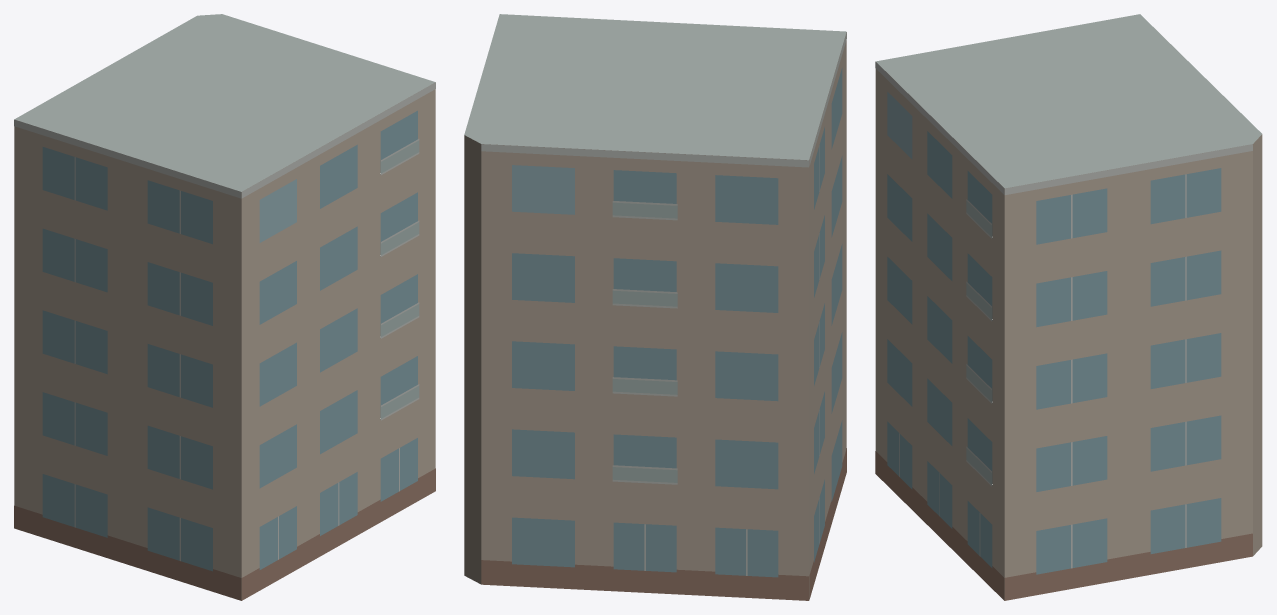
File: survey-upis-32678154.glb
The picture shows the model from 3 angles, left to right: view 1: azimuth 30°, elevation 25°; view 2: azimuth 150°, elevation 25°; view 3: azimuth 270°, elevation 25°; orthographic projection. The views are drawn at different scales.
Parts seen in each view (by area): view 1: survey-upis-32678154.tmp; view 2: survey-upis-32678154.tmp; view 3: survey-upis-32678154.tmp.
Boxes of the visible parts, left/top/right/bottom form: survey-upis-32678154.tmp: left=14, top=14, right=435, bottom=600; survey-upis-32678154.tmp: left=464, top=14, right=846, bottom=600; survey-upis-32678154.tmp: left=875, top=14, right=1262, bottom=600.
Bounding box in the file's own units: 13.39 × 14.75 × 12.55.
